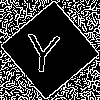Y: (25, 25, 62, 73)
